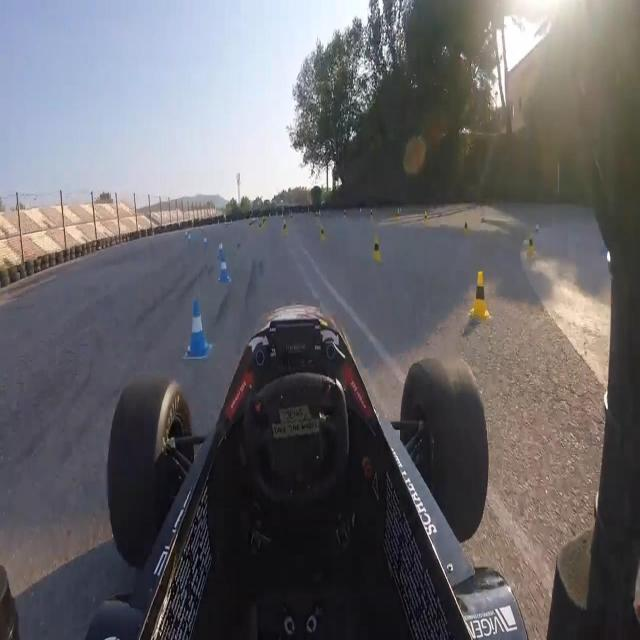blue_cone: (184, 300, 212, 362), (218, 254, 230, 282), (216, 241, 224, 258), (202, 236, 208, 250), (188, 232, 191, 246)
yellow_cone: (468, 272, 490, 320), (372, 233, 382, 263), (526, 230, 534, 256), (319, 225, 326, 243), (281, 220, 288, 238), (463, 218, 470, 236), (424, 209, 429, 229), (259, 223, 262, 233)
